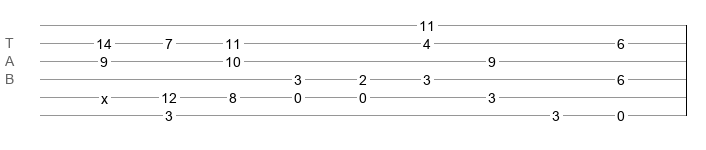0: (294, 90, 302, 100), (359, 90, 367, 100), (617, 108, 625, 118)
10: (225, 54, 241, 64)
11: (225, 36, 241, 46), (419, 18, 435, 28)
12: (161, 90, 177, 100)
14: (96, 36, 112, 46)
2: (359, 72, 367, 82)
3: (165, 108, 173, 118), (294, 72, 302, 82), (423, 72, 431, 82), (488, 90, 496, 100), (552, 108, 560, 118)
4: (423, 36, 431, 46)
6: (617, 36, 625, 46), (617, 72, 625, 82)
7: (165, 36, 173, 46)
8: (229, 90, 237, 100)
9: (100, 54, 108, 64), (488, 54, 496, 64)
x: (101, 91, 108, 99)
